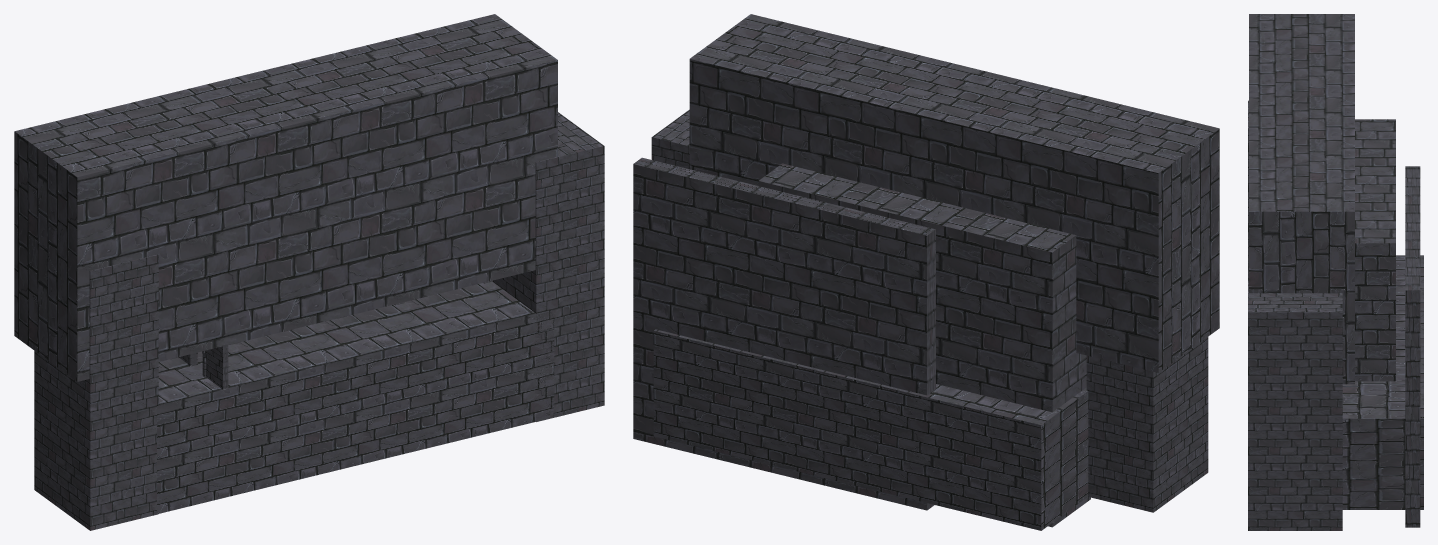
Rendered from Alpha_Placeholder.fbx.
The picture shows the model from 3 angles, left to right: view 1: azimuth 30°, elevation 25°; view 2: azimuth 150°, elevation 25°; view 3: azimuth 270°, elevation 25°; orthographic projection. The views are drawn at different scales.
Visible parts, largest first — view 1: ceiling4, floor, left, left1, wall_1; view 2: ceiling4, back1, floor, back, left, left1; view 3: ceiling4, left1, back, floor, back1.
Boxes of the visible parts, x1,y1,x2,y2 form: ceiling4: (14, 14, 557, 381); floor: (157, 281, 554, 514); left: (34, 254, 158, 530); left1: (492, 112, 604, 421); wall_1: (179, 344, 228, 389); ceiling4: (689, 14, 1219, 372); back1: (633, 157, 935, 510); floor: (653, 329, 1088, 530); back: (758, 163, 1090, 527); left: (1086, 337, 1208, 512); left1: (651, 109, 689, 168); ceiling4: (1249, 14, 1354, 384); left1: (1248, 284, 1342, 530); back: (1355, 119, 1395, 381); floor: (1248, 255, 1423, 509); back1: (1405, 166, 1420, 527).
Bounding box in the file's own units: 5365 × 3559 × 1839.
